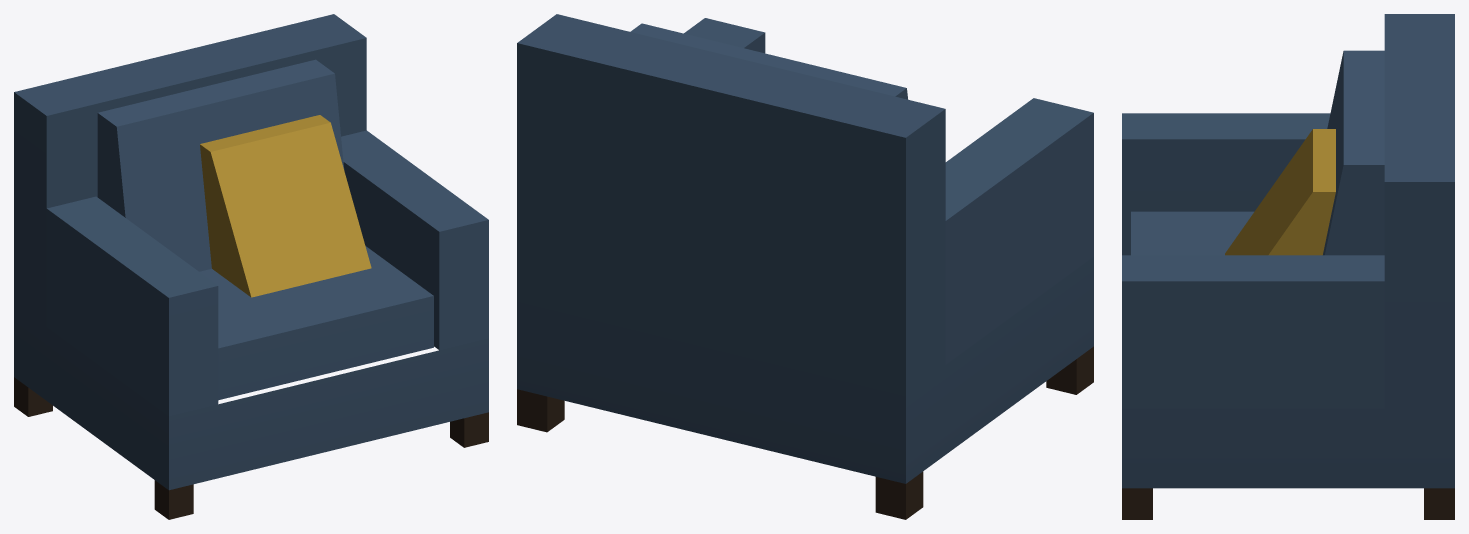
The model's file is sofa.armchair.blue.glb.
The picture shows the model from 3 angles, left to right: view 1: azimuth 30°, elevation 25°; view 2: azimuth 150°, elevation 25°; view 3: azimuth 270°, elevation 25°; orthographic projection. The views are drawn at different scales.
Visible parts, largest first — view 1: sofa_armchair_blue; view 2: sofa_armchair_blue; view 3: sofa_armchair_blue.
Boxes of the visible parts, x1,y1,x2,y2 form: sofa_armchair_blue: (14, 14, 488, 519); sofa_armchair_blue: (517, 14, 1093, 519); sofa_armchair_blue: (1122, 14, 1454, 519).
Size of what is drawn, in the model's own units: 0.905 by 0.85 by 0.758.
